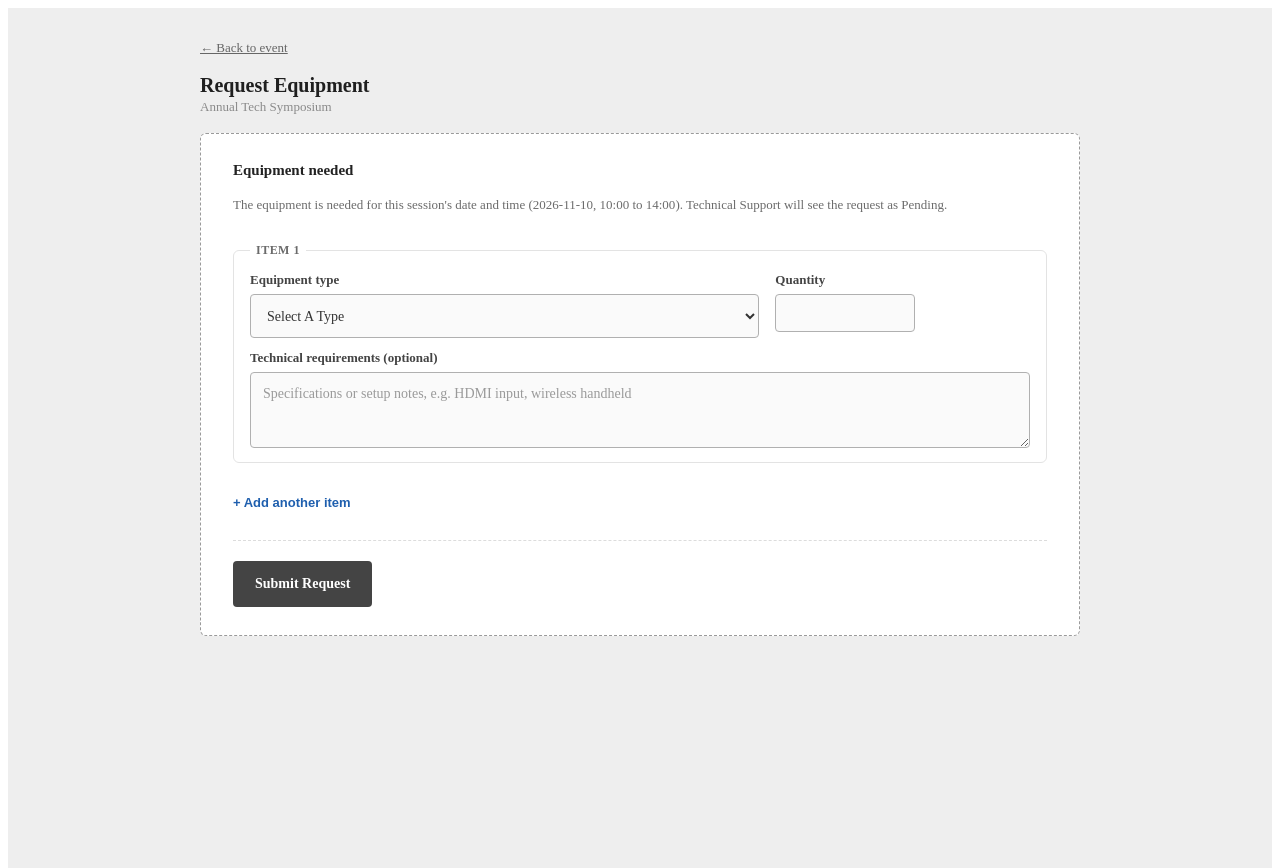
it: RequestEquipmentView › can remove an added line but never the last one
The width and height of the screenshot is (1280, 868).
expect the text "Remove item" is not shown: met
What coordinates should you click on to do the following:
click the button with class "add"
I would click on:
 (292, 502)
Its box is [233, 495, 351, 510].
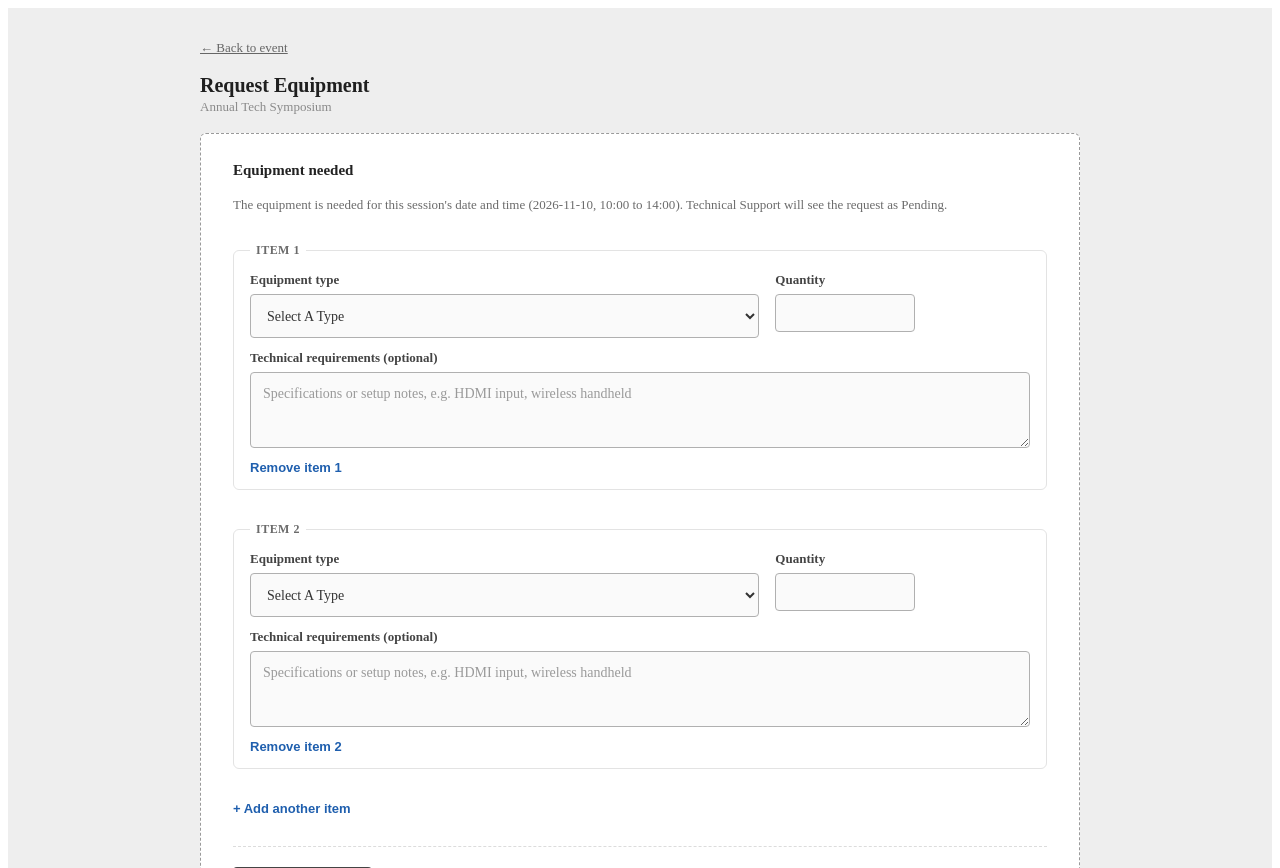
What coordinates should you click on to do the following:
click the button with class "link-btn" showing "Remove item 1"
I would click on:
 (296, 468)
Its box is [250, 460, 342, 475].
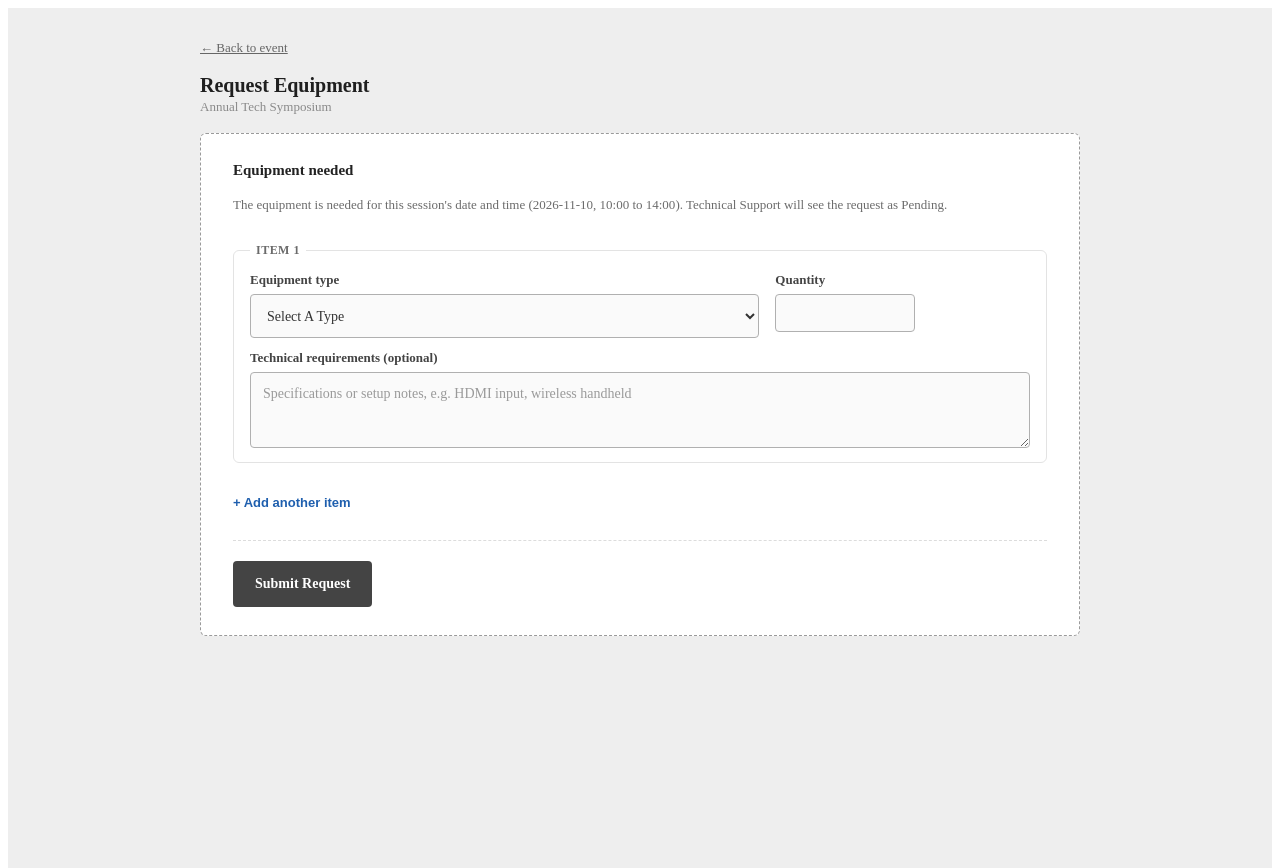
expect the text "Remove item" is gone: met
